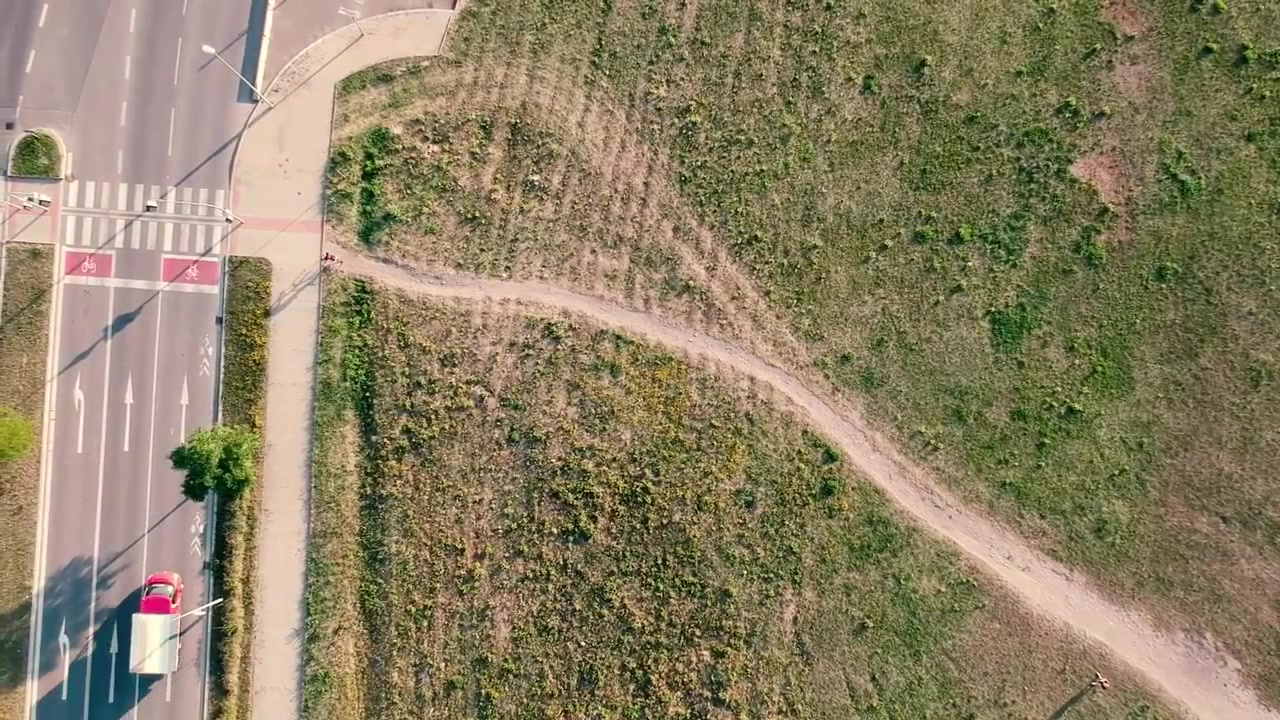car: (128, 569, 187, 678)
